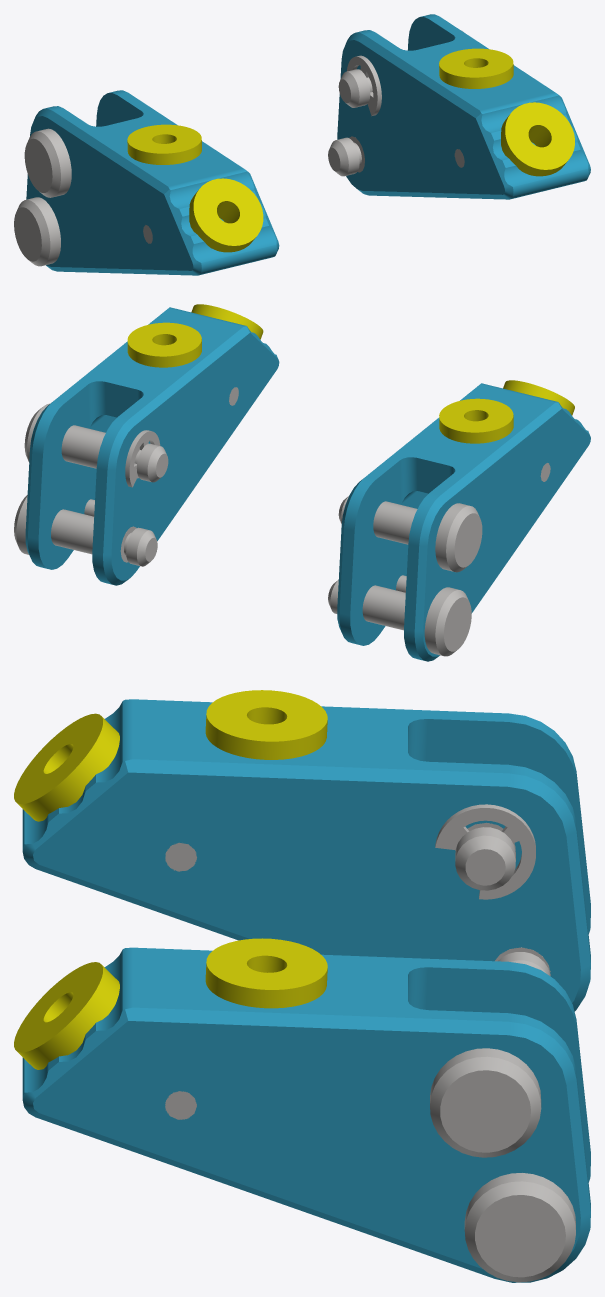
Rendered from LARM_INDEX_LINK3_mesh.dae.
The picture shows the model from 3 angles, top to bottom: view 1: azimuth 30°, elevation 25°; view 2: azimuth 150°, elevation 25°; view 3: azimuth 270°, elevation 25°; orthographic projection. The views are drawn at different scales.
Visible parts, largest first — view 1: サーフェス1, サーフェス1_ncl1_1, サーフェス1_ncl1_12, サーフェス1_ncl1_14, サーフェス1_ncl1_15, サーフェス1_ncl1_13, サーフェス1_ncl1_9, サーフェス1_ncl1_8, サーフェス1_ncl1_11, サーフェス1_ncl1_10, サーフェス1_ncl1_2; view 2: サーフェス1, サーフェス1_ncl1_1, サーフェス1_ncl1_8, サーフェス1_ncl1_9, サーフェス1_ncl1_11, サーフェス1_ncl1_15, サーフェス1_ncl1_13, サーフェス1_ncl1_10, サーフェス1_ncl1_12, サーフェス1_ncl1_14, サーフェス1_ncl1_2; view 3: サーフェス1, サーフェス1_ncl1_1, サーフェス1_ncl1_10, サーフェス1_ncl1_11, サーフェス1_ncl1_15, サーフェス1_ncl1_13, サーフェス1_ncl1_12, サーフェス1_ncl1_14, サーフェス1_ncl1_9, サーフェス1_ncl1_3, サーフェス1_ncl1_8.
Boxes of the visible parts, x1=… form: サーフェス1: x1=337, y1=14, x2=590, y2=199; サーフェス1_ncl1_1: x1=26, y1=90, x2=279, y2=275; サーフェス1_ncl1_12: x1=189, y1=178, x2=263, y2=252; サーフェス1_ncl1_14: x1=501, y1=102, x2=574, y2=176; サーフェス1_ncl1_15: x1=439, y1=48, x2=513, y2=88; サーフェス1_ncl1_13: x1=127, y1=124, x2=201, y2=164; サーフェス1_ncl1_9: x1=24, y1=128, x2=71, y2=197; サーフェス1_ncl1_8: x1=14, y1=197, x2=60, y2=266; サーフェス1_ncl1_11: x1=328, y1=136, x2=364, y2=176; サーフェス1_ncl1_10: x1=338, y1=30, x2=463, y2=107; サーフェス1_ncl1_2: x1=347, y1=55, x2=381, y2=116; サーフェス1: x1=25, y1=307, x2=279, y2=585; サーフェス1_ncl1_1: x1=337, y1=383, x2=590, y2=661; サーフェス1_ncl1_8: x1=328, y1=580, x2=471, y2=656; サーフェス1_ncl1_9: x1=338, y1=496, x2=482, y2=572; サーフェス1_ncl1_11: x1=14, y1=495, x2=157, y2=566; サーフェス1_ncl1_15: x1=127, y1=322, x2=201, y2=367; サーフェス1_ncl1_13: x1=439, y1=398, x2=513, y2=443; サーフェス1_ncl1_10: x1=24, y1=403, x2=168, y2=482; サーフェス1_ncl1_12: x1=503, y1=380, x2=574, y2=415; サーフェス1_ncl1_14: x1=191, y1=304, x2=263, y2=339; サーフェス1_ncl1_2: x1=125, y1=430, x2=160, y2=487; サーフェス1: x1=22, y1=947, x2=590, y2=1282; サーフェス1_ncl1_1: x1=22, y1=699, x2=590, y2=1011; サーフェス1_ncl1_10: x1=430, y1=1048, x2=541, y2=1157; サーフェス1_ncl1_11: x1=464, y1=1173, x2=575, y2=1282; サーフェス1_ncl1_15: x1=205, y1=938, x2=327, y2=1008; サーフェス1_ncl1_13: x1=205, y1=690, x2=327, y2=759; サーフェス1_ncl1_12: x1=14, y1=713, x2=119, y2=821; サーフェス1_ncl1_14: x1=14, y1=962, x2=119, y2=1069; サーフェス1_ncl1_9: x1=455, y1=823, x2=515, y2=890; サーフェス1_ncl1_3: x1=435, y1=804, x2=535, y2=899; サーフェス1_ncl1_8: x1=495, y1=947, x2=550, y2=976.
Size of the model in its own units: 0.04 by 0.0285 by 0.0158.
